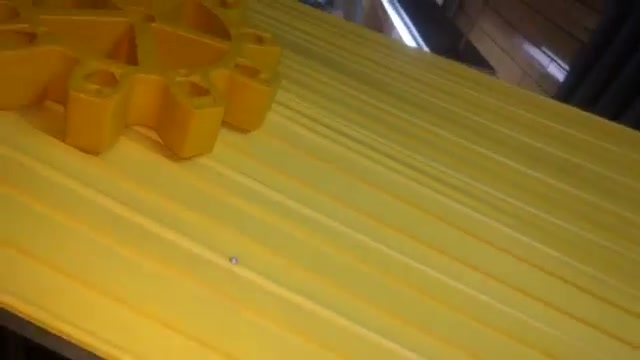gear: (2, 1, 291, 189)
